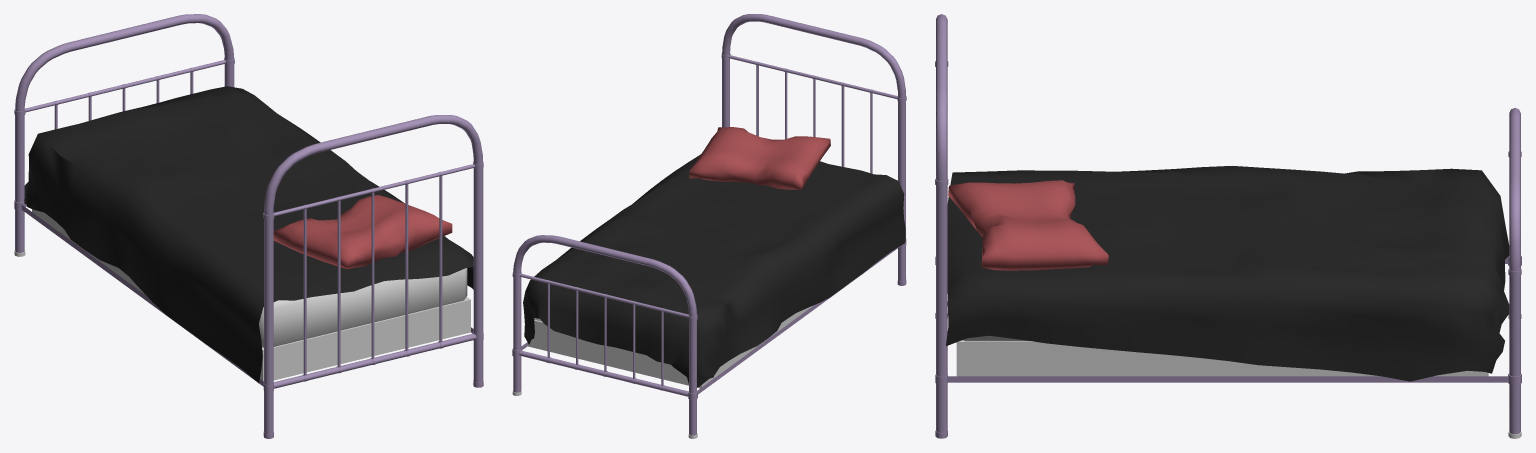
The model's file is PlayerBed.fbx.
The picture shows the model from 3 angles, left to right: view 1: azimuth 30°, elevation 25°; view 2: azimuth 150°, elevation 25°; view 3: azimuth 270°, elevation 25°; orthographic projection. The views are drawn at different scales.
Visible parts, largest first — view 1: Bed; view 2: Bed; view 3: Bed.
Part boxes in pixels (box(x1,y1,x2,y2)): Bed: box(14, 14, 483, 438); Bed: box(512, 14, 906, 438); Bed: box(935, 14, 1521, 438).
Size of the model in its own units: 112 by 128 by 210.
